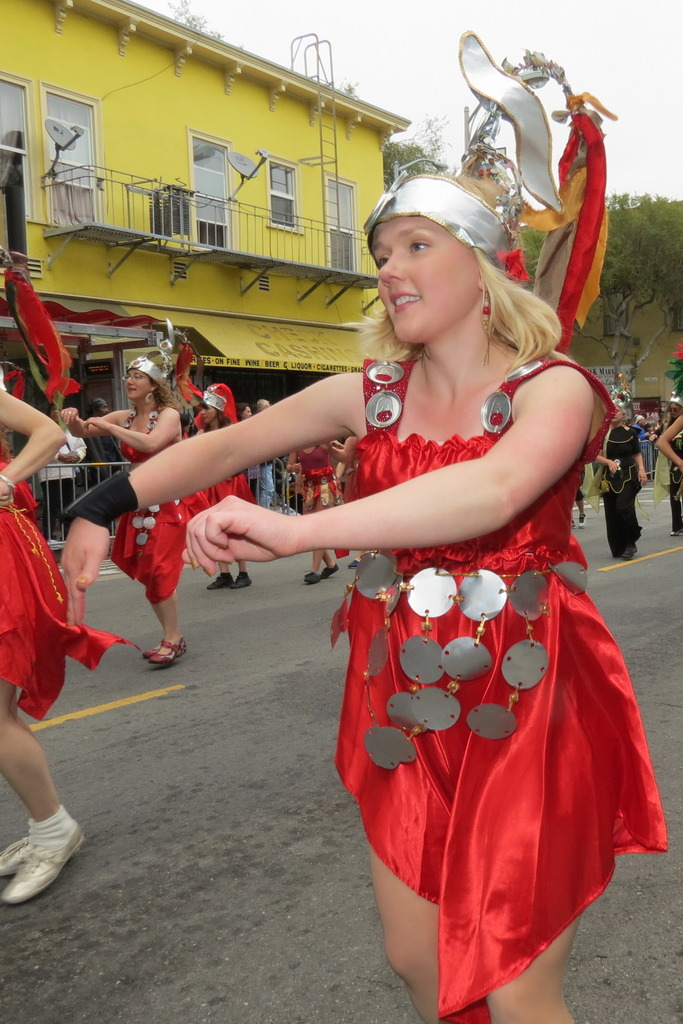Human-face: (368, 213, 473, 348), (118, 369, 151, 404), (197, 401, 218, 429), (234, 403, 255, 424), (46, 405, 61, 424), (668, 403, 682, 422), (610, 404, 626, 420), (97, 403, 111, 419)
